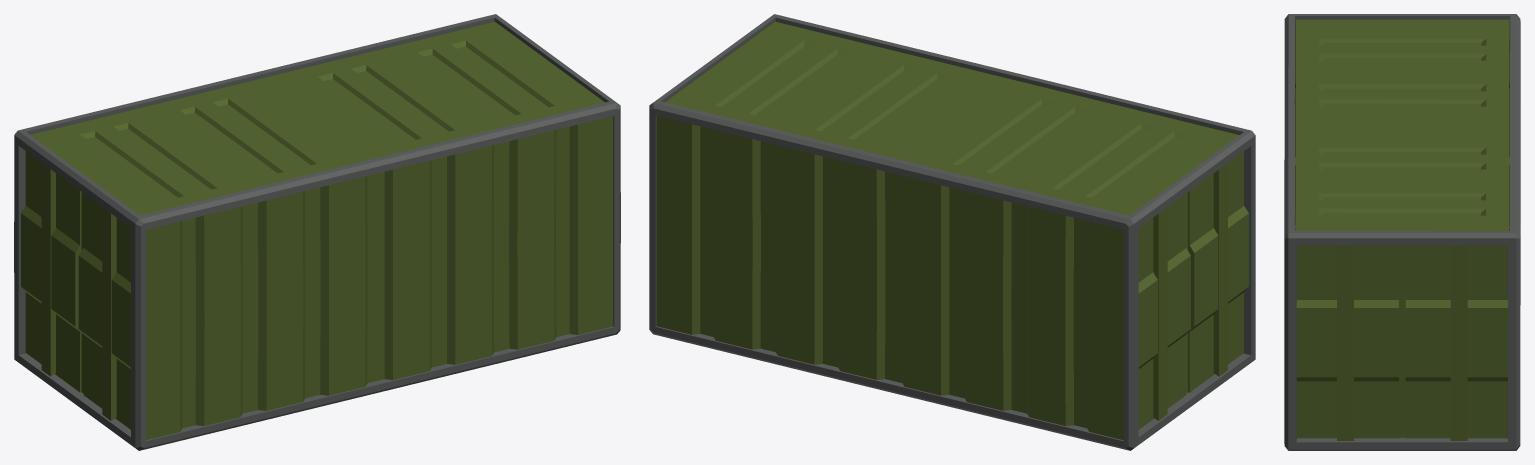
File: quaternius-zombie-apocalypse-kit-march-container-green.glb
3 views of the same model, side by side, from view 1: azimuth 30°, elevation 25°; view 2: azimuth 150°, elevation 25°; view 3: azimuth 270°, elevation 25° (orthographic). The views are drawn at different scales.
Parts seen in each view (by area): view 1: Container_Green; view 2: Container_Green; view 3: Container_Green.
Boxes of the visible parts, bbox=[...] form: Container_Green: bbox=[14, 14, 620, 450]; Container_Green: bbox=[649, 14, 1255, 450]; Container_Green: bbox=[1284, 14, 1520, 450].
Size of the model in its own units: 5.71 by 2.6 by 2.56.
Materials: 1 (1 with a texture image).
